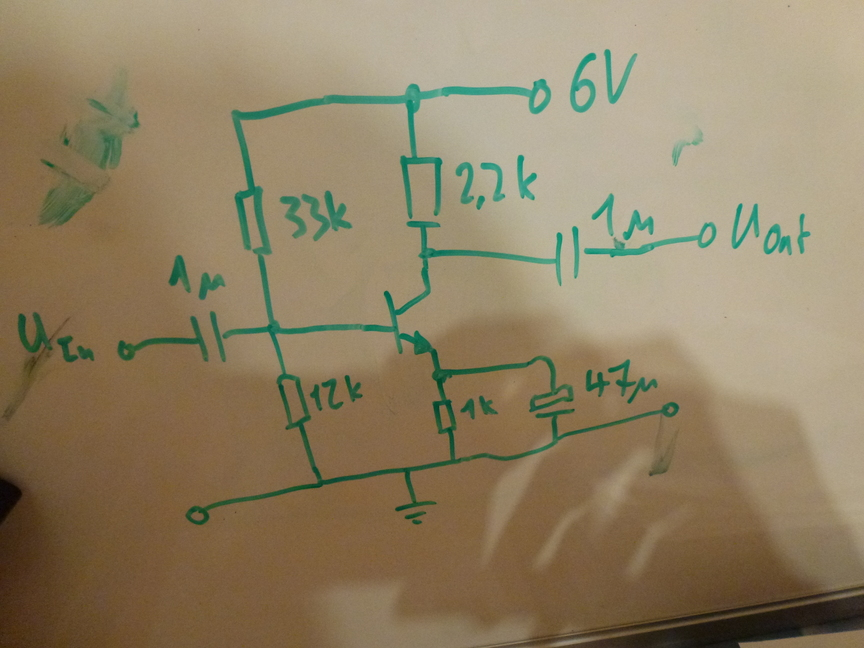capacitor.polarized: (528, 381, 577, 421)
capacitor.unpolarized: (538, 225, 595, 288), (182, 308, 238, 367)
gnd: (390, 496, 440, 530)
junction: (398, 79, 425, 114), (262, 318, 284, 339), (429, 365, 453, 384), (311, 475, 331, 495), (416, 243, 436, 263), (538, 351, 559, 370), (224, 105, 246, 123), (548, 430, 568, 447), (446, 454, 462, 468), (399, 463, 415, 476)
resistor: (398, 152, 446, 231), (232, 183, 277, 259), (273, 369, 312, 430), (431, 398, 459, 436)
terminal: (521, 76, 558, 116), (693, 219, 722, 249), (183, 502, 213, 528), (115, 336, 142, 362), (659, 397, 682, 422)
text: (452, 152, 542, 212), (728, 198, 814, 259), (565, 46, 639, 115), (13, 308, 97, 367), (278, 188, 355, 242), (583, 357, 660, 404), (591, 191, 659, 240), (165, 253, 230, 304), (310, 373, 366, 412), (458, 394, 500, 421)
transistor: (376, 282, 446, 357)
